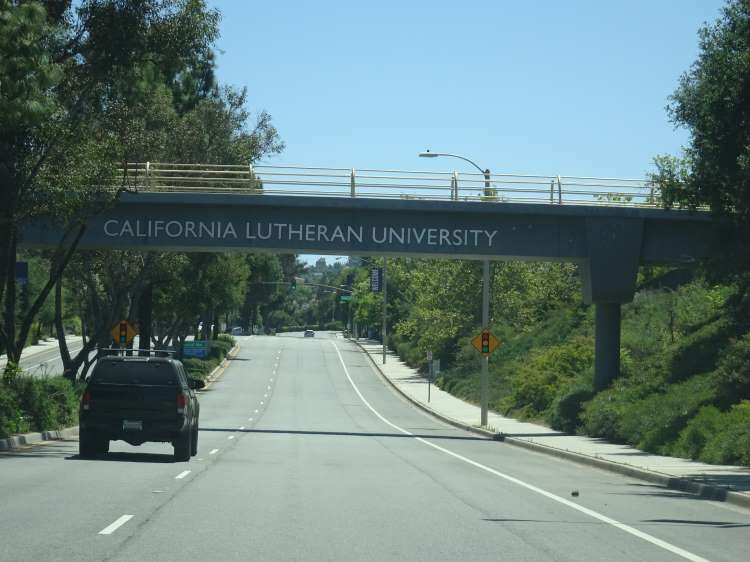bridge: (16, 150, 746, 274)
